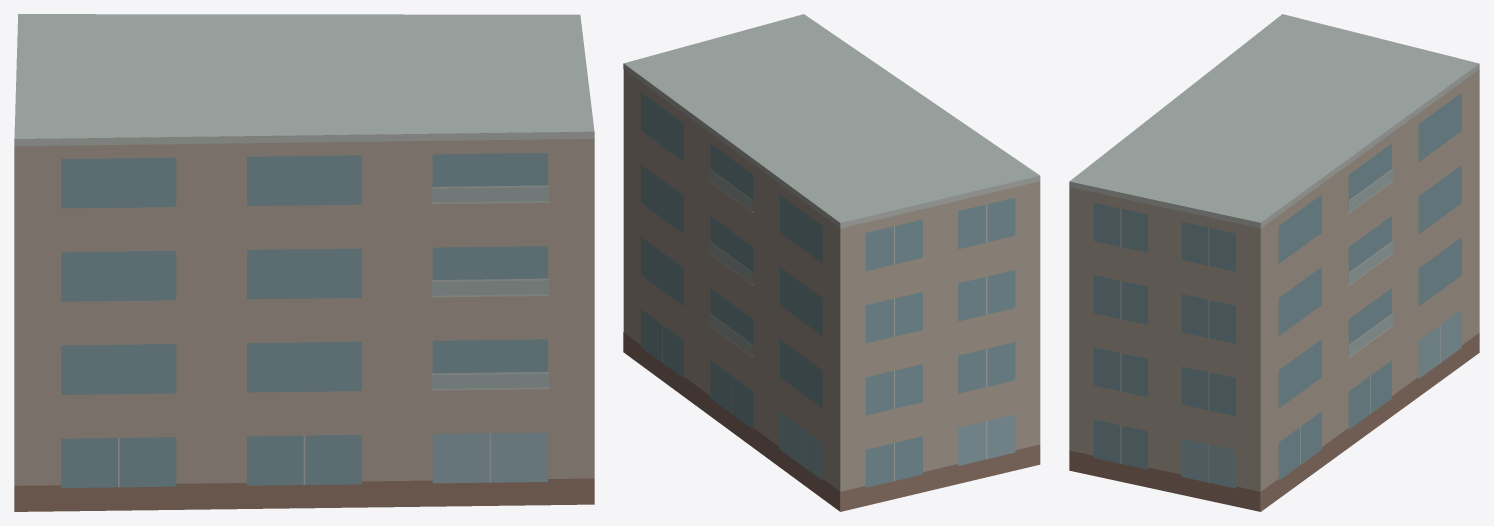
The model's file is survey-upis-32838333.glb.
3 renders of one model, left to right at view 1: azimuth 30°, elevation 25°; view 2: azimuth 150°, elevation 25°; view 3: azimuth 270°, elevation 25°, orthographic. The views are drawn at different scales.
Visible parts, largest first — view 1: survey-upis-32838333.tmp; view 2: survey-upis-32838333.tmp; view 3: survey-upis-32838333.tmp.
Boxes of the visible parts, box(x1,y1,x2,y2) form: survey-upis-32838333.tmp: box(14, 14, 594, 511); survey-upis-32838333.tmp: box(623, 14, 1040, 511); survey-upis-32838333.tmp: box(1069, 14, 1479, 511).
Size of the model in its own units: 19.69 by 12.7 by 16.35.
